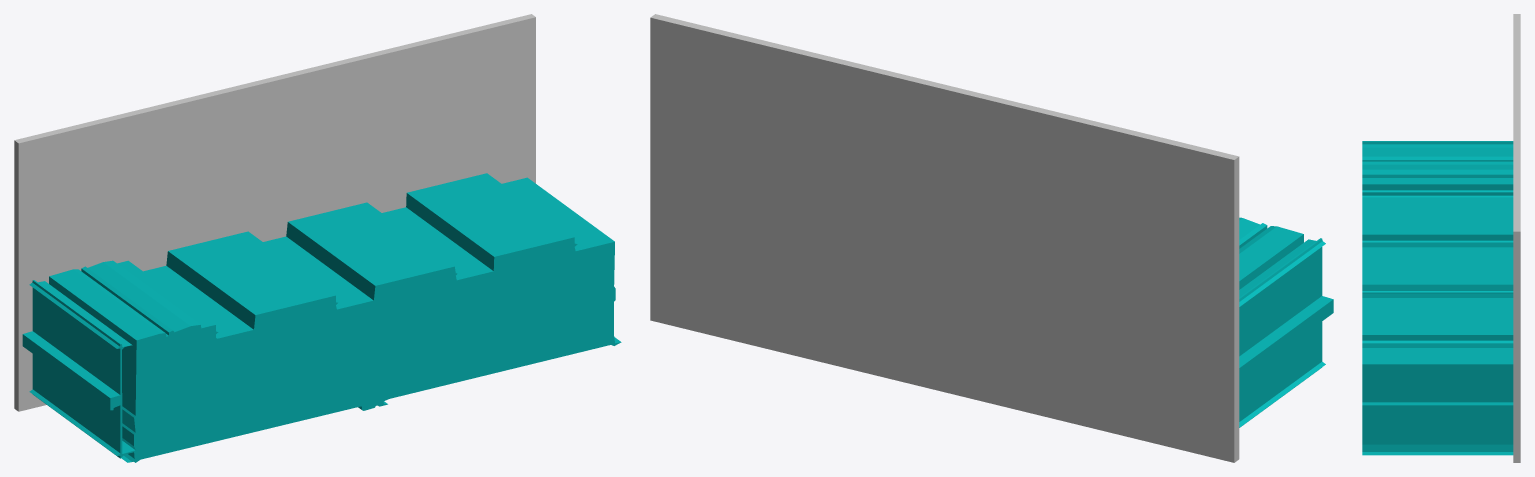
3 views of the same model, side by side, from view 1: azimuth 30°, elevation 25°; view 2: azimuth 150°, elevation 25°; view 3: azimuth 270°, elevation 25° (orthographic). The views are drawn at different scales.
Visible parts, largest first — view 1: world; view 2: world; view 3: world.
Part boxes in pixels (box(x1,y1,x2,y2)): world: box(14, 14, 621, 462); world: box(650, 14, 1333, 462); world: box(1362, 14, 1520, 462).
Size of the model in its own units: 10.23 by 5.07 by 3.15.
